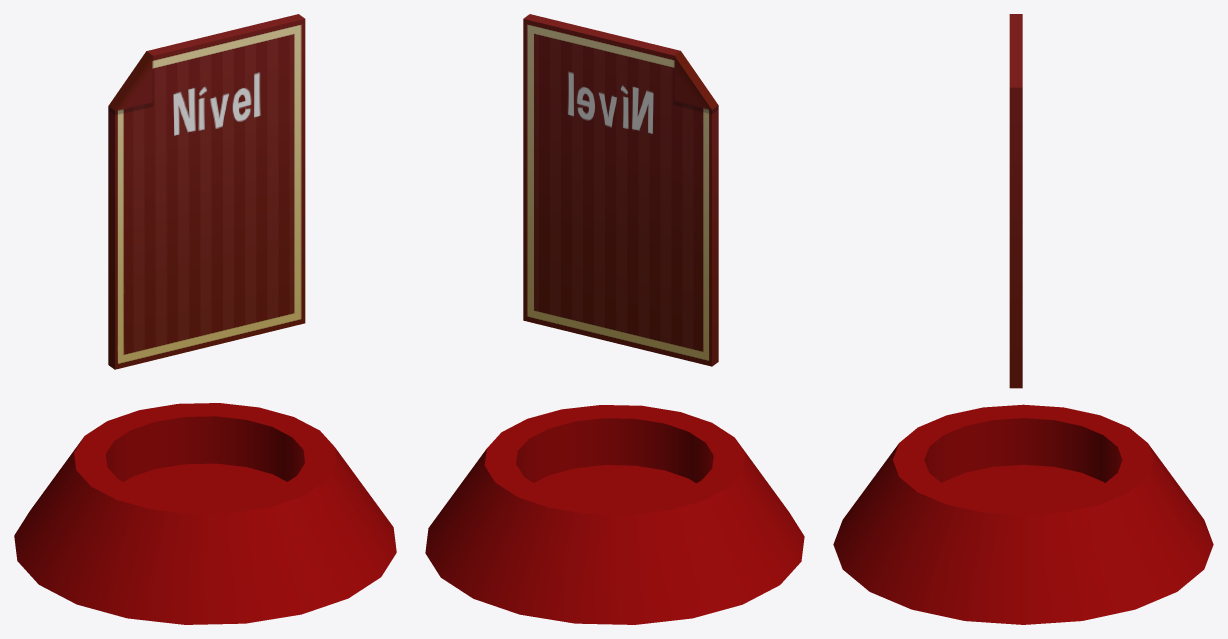
The model's file is ExportedFBXFile.fbx.
The picture shows the model from 3 angles, left to right: view 1: azimuth 30°, elevation 25°; view 2: azimuth 150°, elevation 25°; view 3: azimuth 270°, elevation 25°; orthographic projection.
Visible parts, largest first — view 1: pCylinder2, pCube1; view 2: pCylinder2, pCube1; view 3: pCylinder2, pCube1.
Boxes of the visible parts, x1,y1,x2,y2 form: pCylinder2: (14, 403, 396, 624); pCube1: (108, 14, 305, 369); pCylinder2: (425, 405, 804, 624); pCube1: (523, 14, 718, 366); pCylinder2: (833, 404, 1213, 624); pCube1: (1009, 14, 1022, 388).
Bounding box in the file's own units: 4.67 × 6.8 × 4.67.
